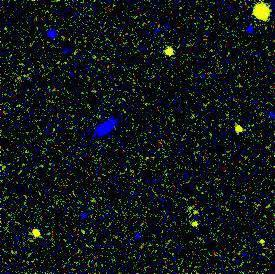star: (92, 109, 122, 139)
